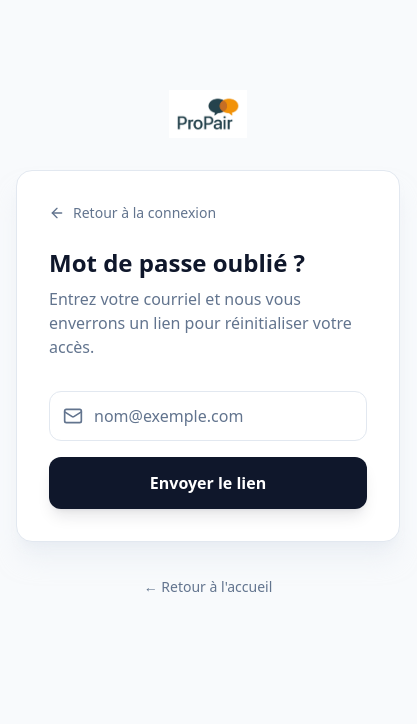
Test: ForgotPassword › successful submission shows success state
This screenshot has width=417, height=724.
Type "test@example.com" into the field named "Adresse courriel" at (208, 416), box [49,391,367,441]
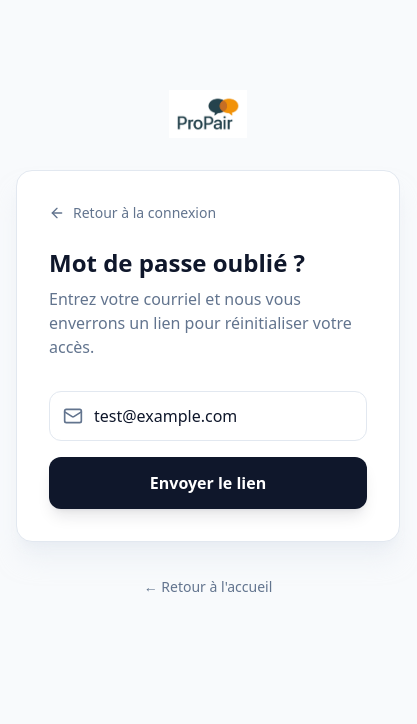
Submit the text "Envoyer le lien", box [49,391,367,509]
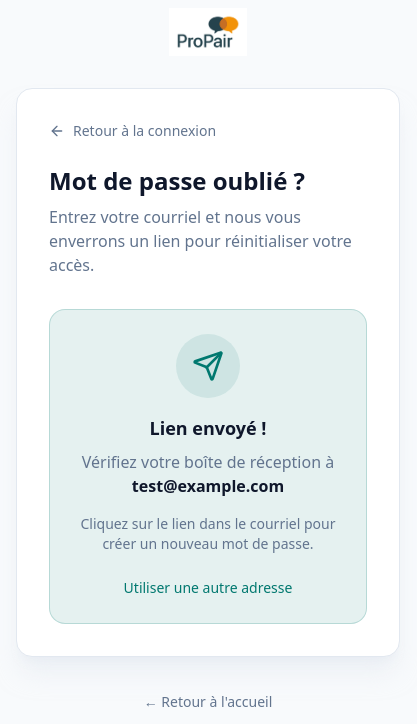
Check: the heading "Lien envoyé !" is shown, box [150,416,266,440]
Check: the text "test@example.com" is shown, box [132,475,284,497]
